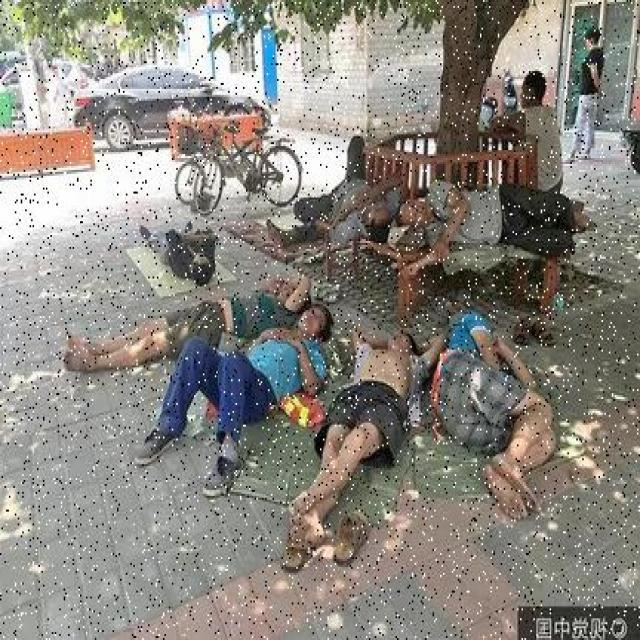fall: (59, 266, 305, 374), (312, 323, 432, 540), (437, 306, 554, 520), (402, 186, 596, 256), (139, 216, 218, 280)
